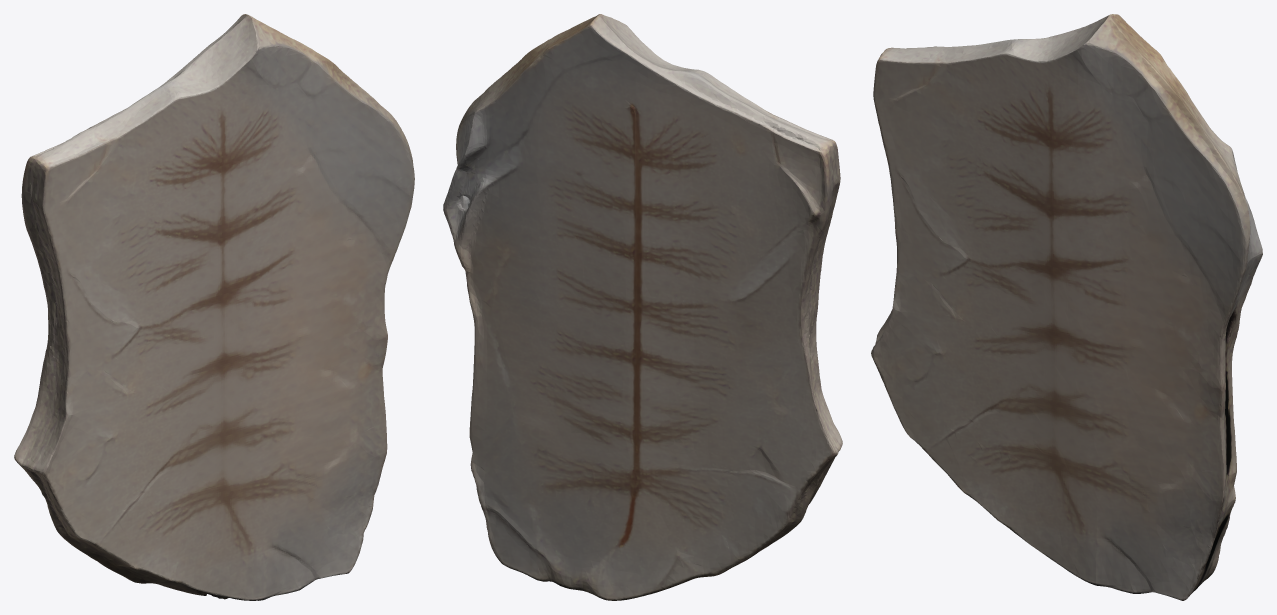
The picture shows the model from 3 angles, left to right: view 1: azimuth 30°, elevation 25°; view 2: azimuth 150°, elevation 25°; view 3: azimuth 330°, elevation 25°; orthographic projection. The views are drawn at different scales.
Parts seen in each view (by area): view 1: world; view 2: world; view 3: world.
Part boxes in pixels (left/top/right/bottom): world: left=14, top=14, right=414, bottom=600; world: left=443, top=14, right=842, bottom=600; world: left=871, top=14, right=1262, bottom=600.
Size of the model in its own units: 0.0988 by 0.14 by 0.0158.
Materials: 1 (1 with a texture image).
